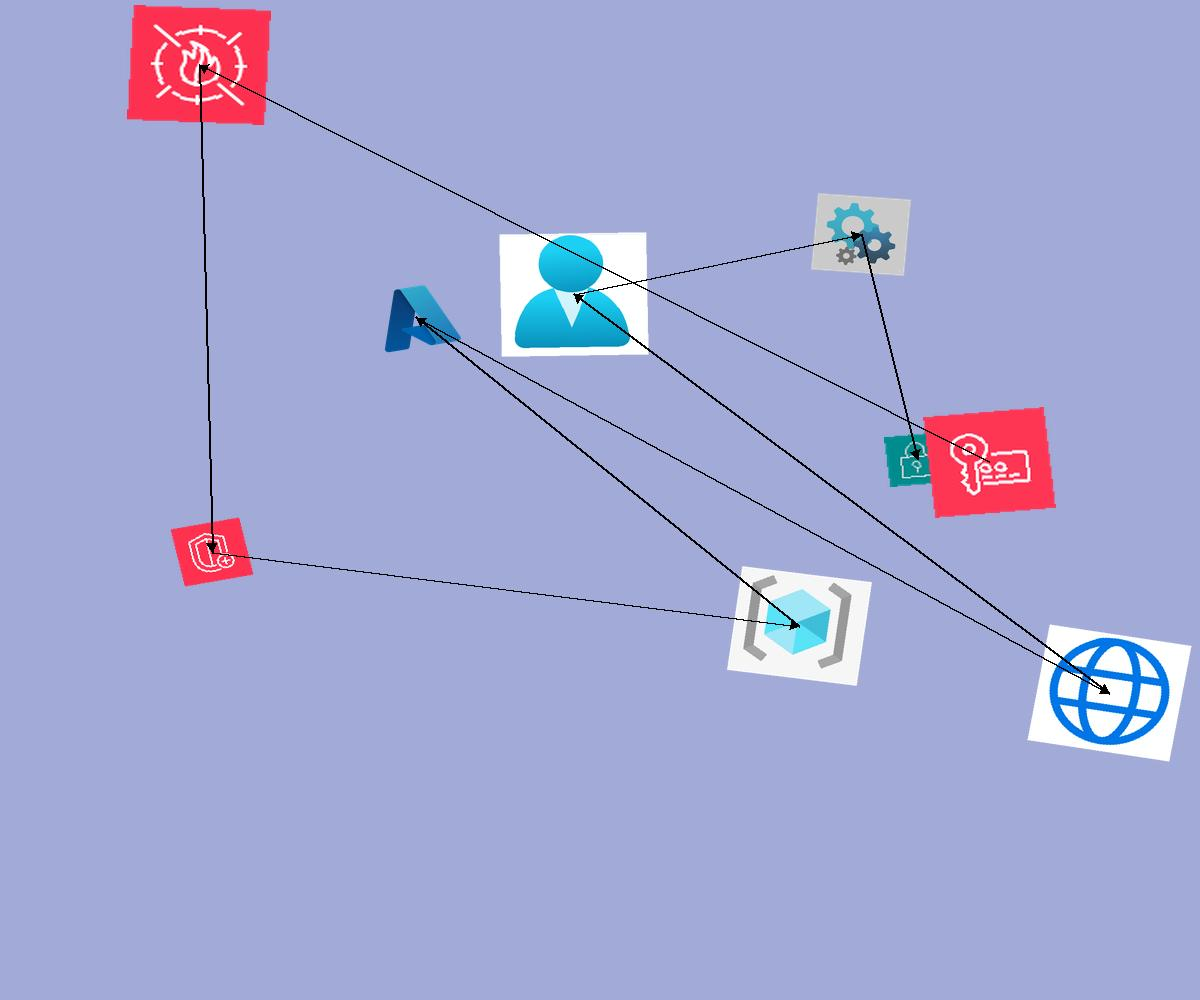AWS-Key-Management-Service: (923, 407, 1056, 518)
AWS-Private-subnet: (884, 432, 950, 487)
AWS-Shield: (170, 517, 254, 587)
AWS-WAF: (127, 5, 271, 125)
Azure_api: (811, 193, 911, 276)
Azure_http: (1027, 624, 1192, 762)
Azure_resource_group: (727, 566, 872, 686)
Azure_services: (367, 276, 466, 358)
Azure_users: (499, 232, 649, 357)
